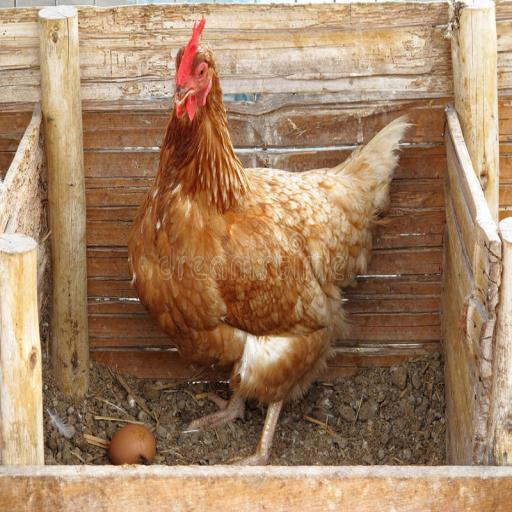healthy: (160, 21, 241, 133)
